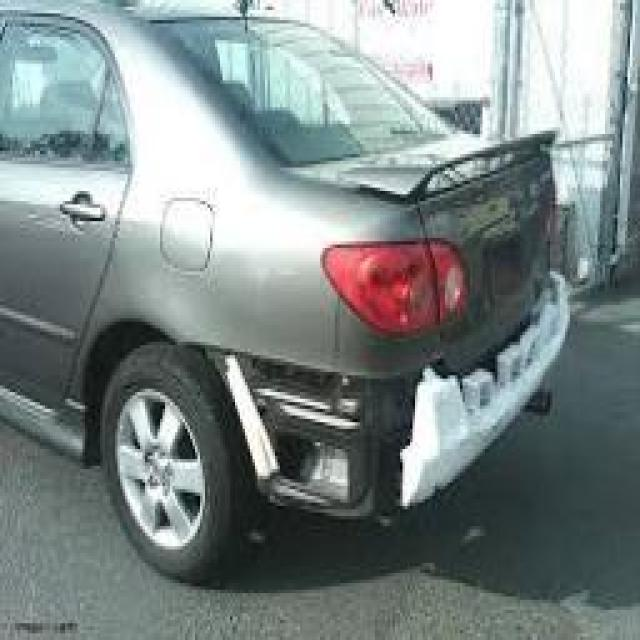Bumper: (220, 274, 574, 519)
